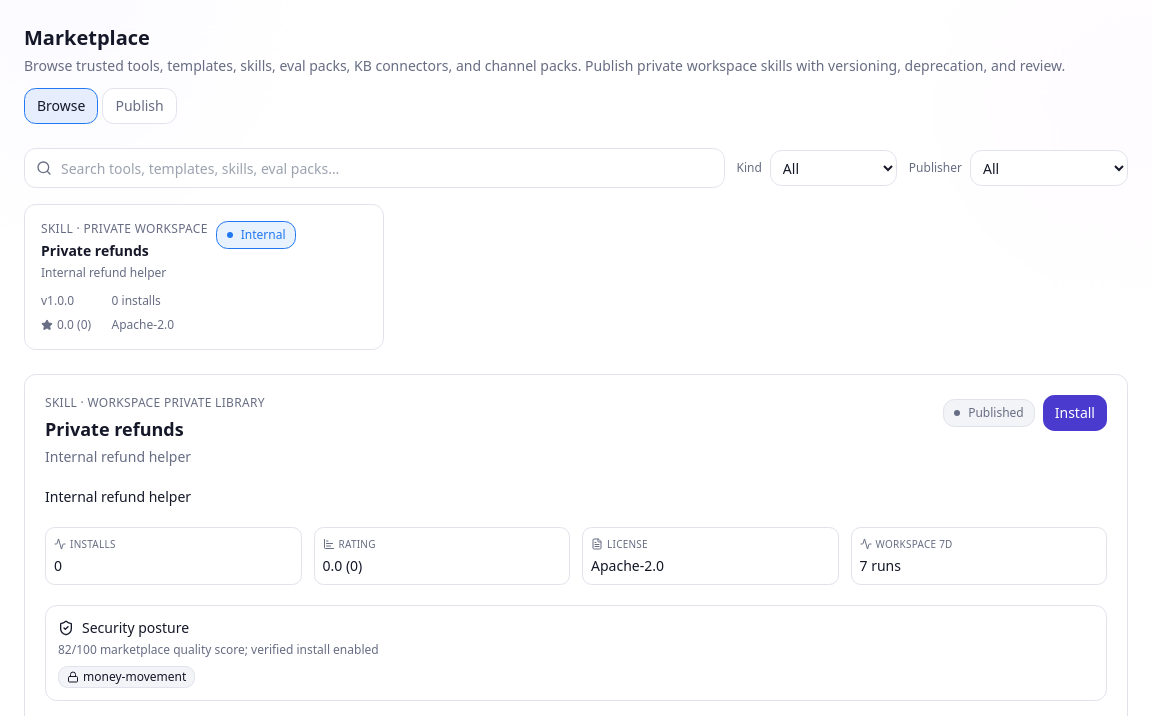
MarketplacePage › installs the selected marketplace item through cp-api and surfaces audit evidence
expect the element with test id "marketplace-detail-mk_private_refunds" shows "Private refunds": met, box [45,417,184,441]
Click the button with test id "marketplace-install-mk_private_refunds" at (1075, 413), box [1043,395,1107,431]
(page scrolled)
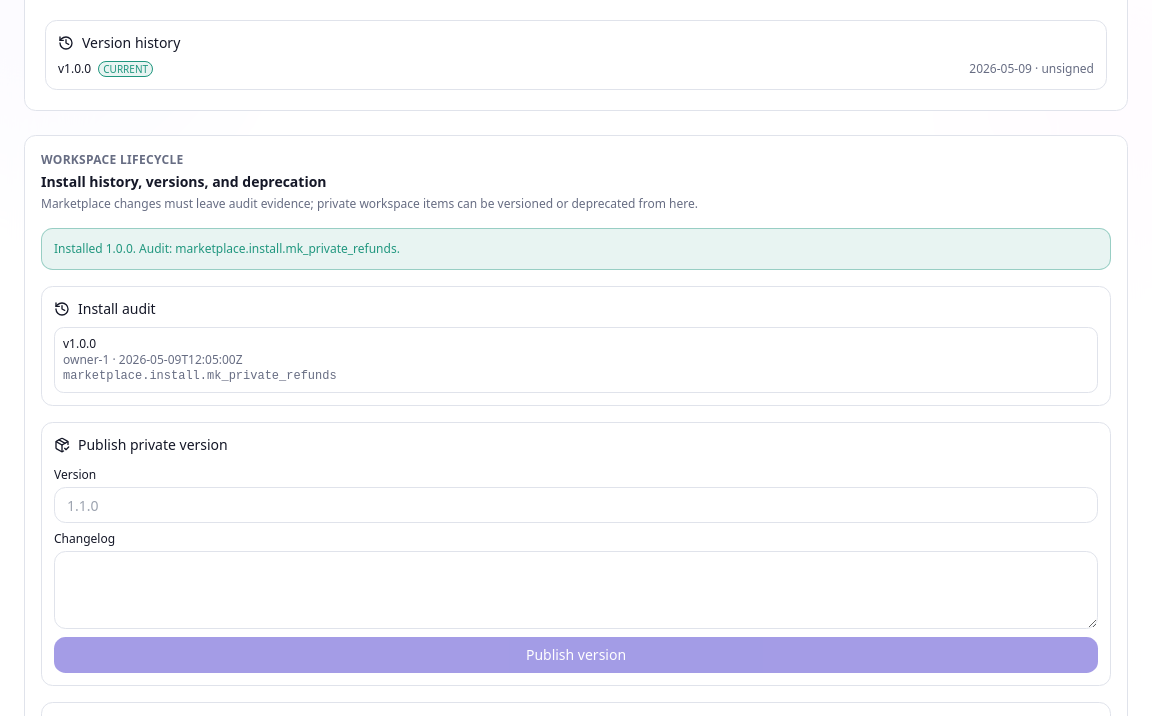
expect the message with test id "marketplace-operation-status" shows "marketplace.install.mk_private_refunds": met, box [54,240,400,257]
expect the list with test id "marketplace-installs" shows "v1.0.0": met, box [54,327,1098,393]
